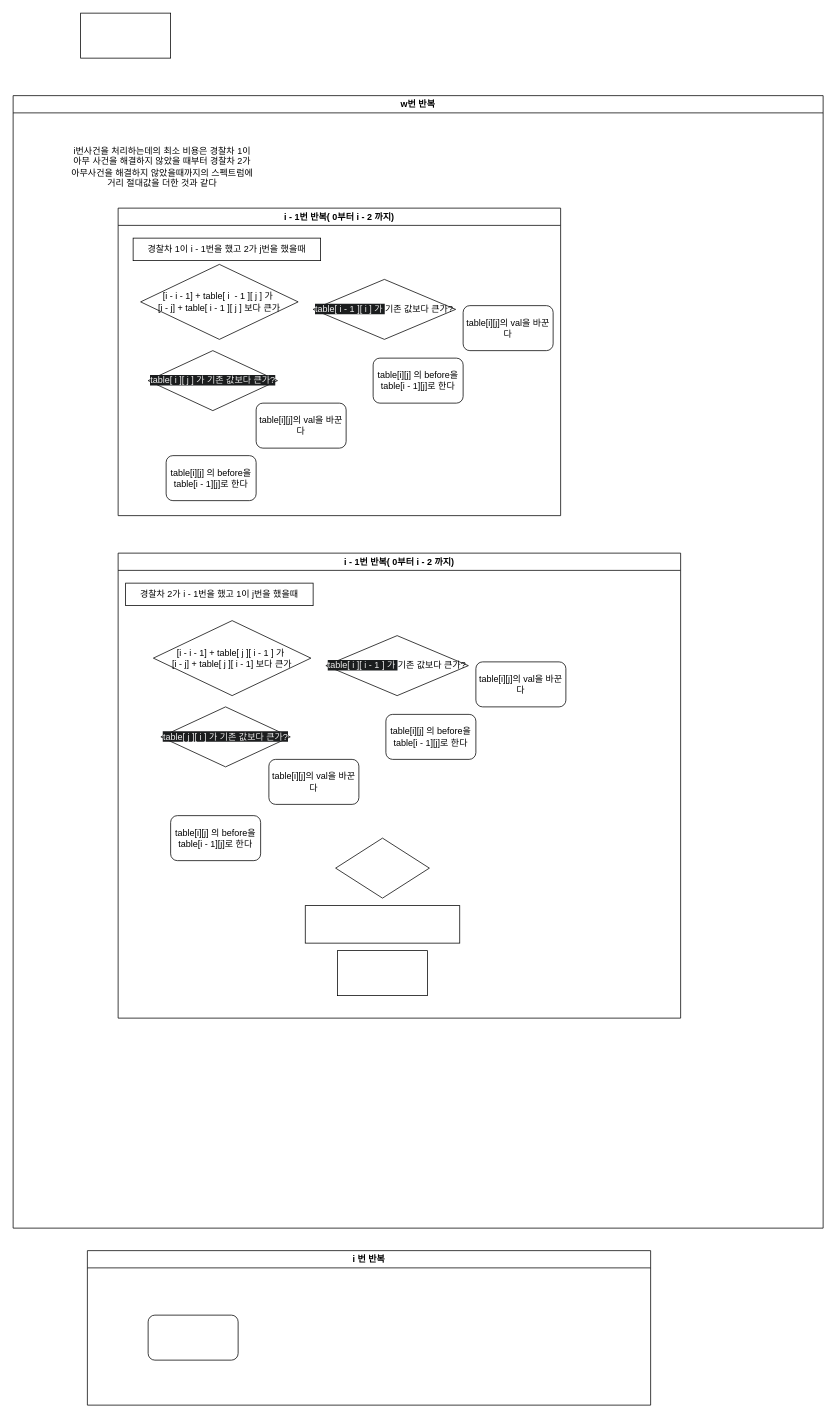
Some shapes in this 836 by 1418 pixel diagram are drawn without their labels. Each missing label, with the centre of its shape:
"i = w - 1인가?" goes at pixel 382 867.
"누가 맡았는지를 확인한다" goes at pixel 192 1337.
"최소 Node를 바꿈" goes at pixel 382 973.
"해당 table의 val이 최저값인가??" goes at pixel 382 924.
